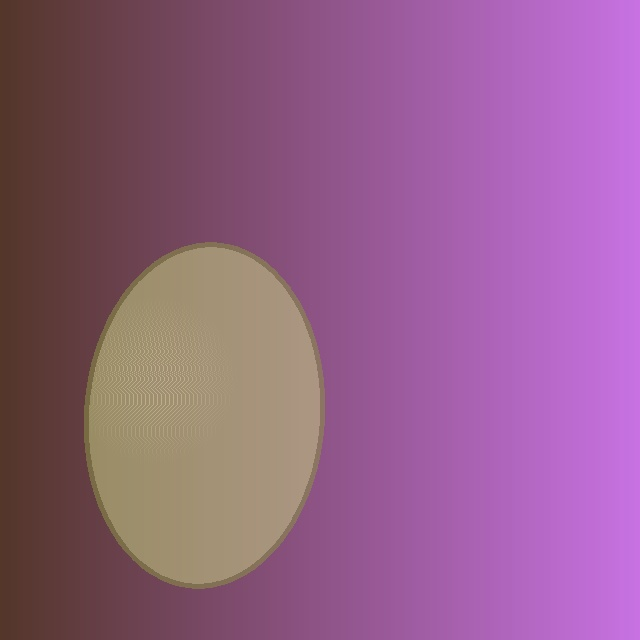lens: (86, 244, 322, 586)
